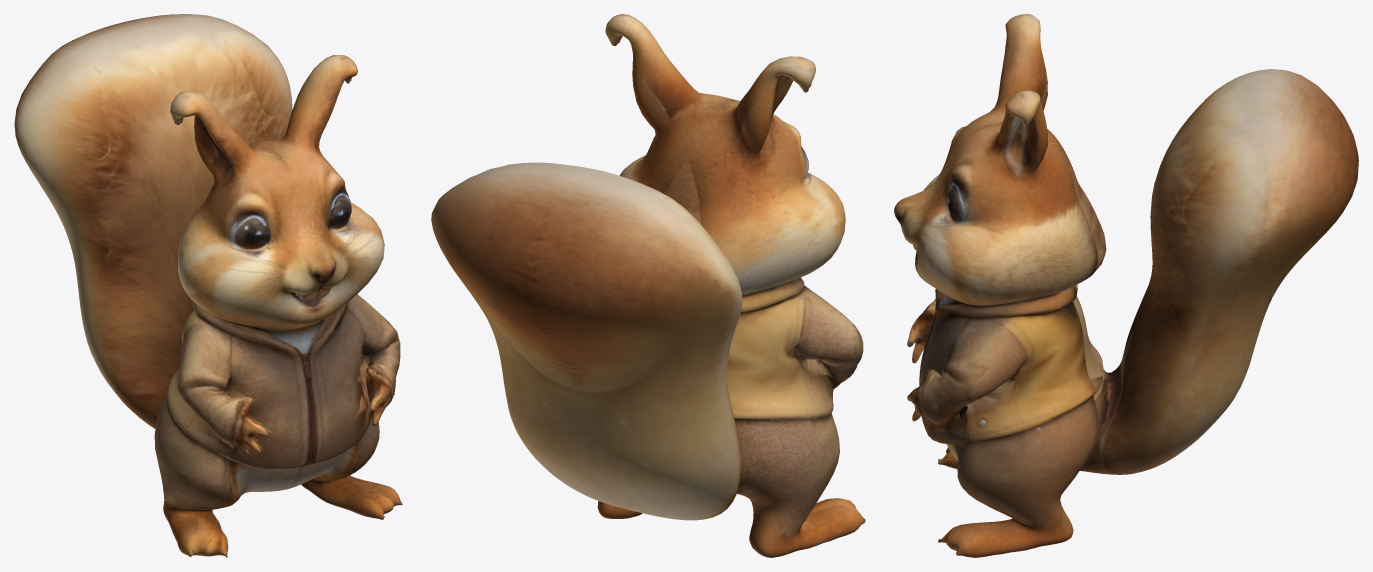
The model's file is squirrel_discover.glb.
3 views of the same model, side by side, from view 1: azimuth 30°, elevation 25°; view 2: azimuth 150°, elevation 25°; view 3: azimuth 270°, elevation 25° (orthographic). The views are drawn at different scales.
Size of the model in its own units: 1.28 by 2 by 1.86.
Materials: 1 (1 with a texture image).
